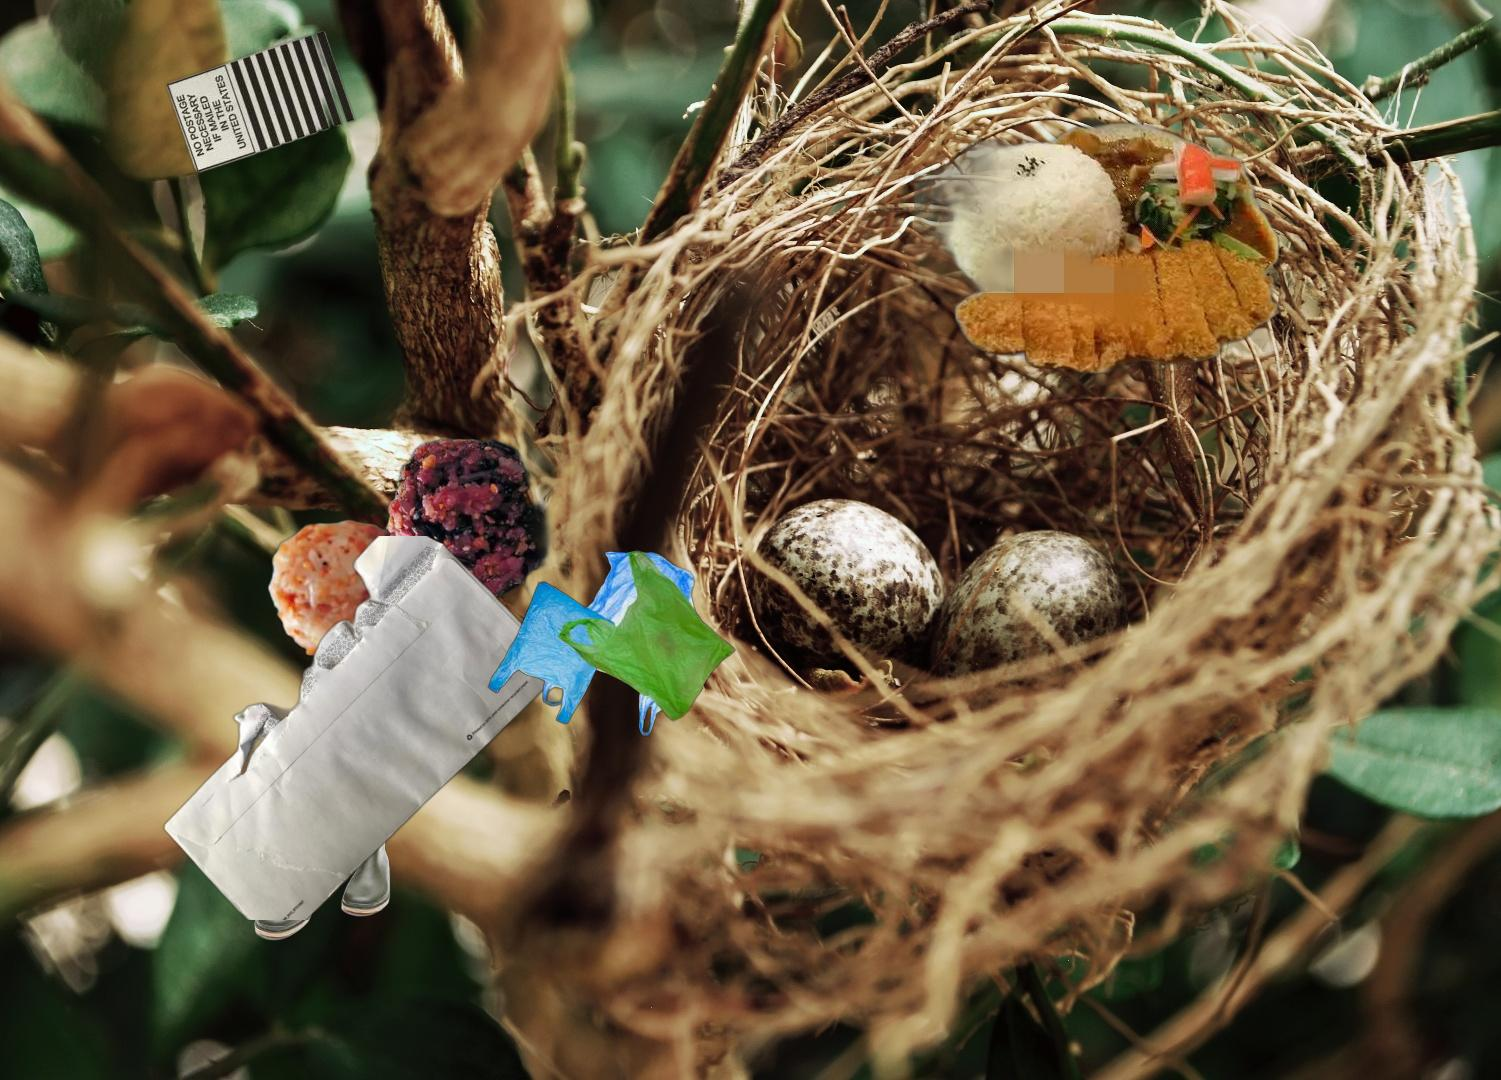biological: (914, 112, 1284, 393), (263, 435, 569, 664)
paper: (160, 536, 568, 920), (155, 27, 359, 175)
plastic-bag: (487, 548, 738, 739)
shoes: (251, 748, 403, 943)
